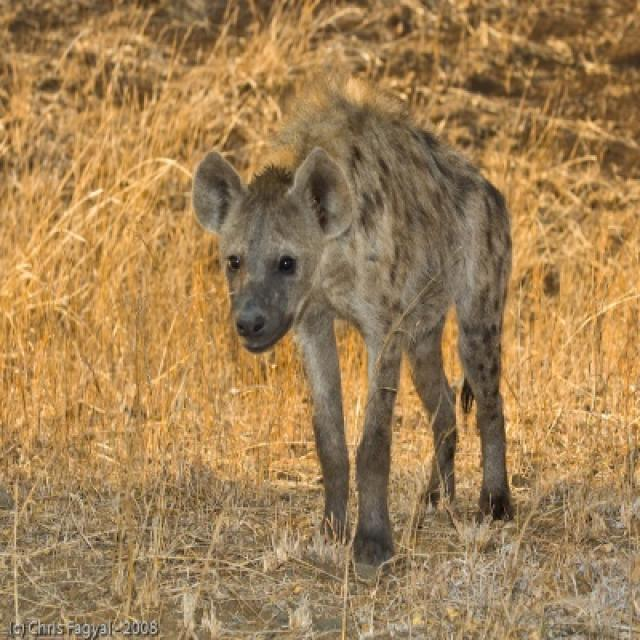hyena: (190, 91, 517, 571)
